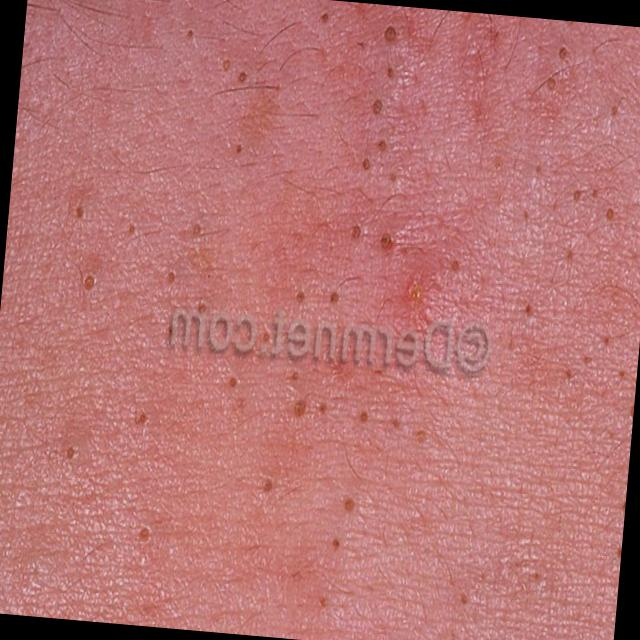blackhead: (378, 228, 395, 254), (291, 396, 308, 422), (80, 269, 96, 294), (136, 522, 152, 547), (340, 496, 357, 516), (492, 152, 505, 178), (370, 95, 384, 118), (382, 23, 398, 43), (164, 264, 177, 288), (570, 182, 584, 204), (318, 8, 332, 30), (413, 428, 428, 448), (375, 134, 388, 156), (544, 72, 558, 92), (556, 43, 569, 64), (350, 221, 362, 243), (361, 154, 374, 172), (235, 68, 248, 86), (293, 287, 306, 305), (192, 220, 203, 241), (328, 288, 340, 307), (262, 477, 274, 496), (562, 365, 574, 384), (564, 246, 574, 268), (137, 409, 149, 427), (63, 444, 75, 462), (316, 400, 328, 418), (603, 205, 615, 222), (590, 184, 600, 204), (386, 62, 396, 82), (74, 204, 85, 222), (580, 350, 591, 368), (504, 334, 515, 352), (616, 364, 628, 380), (400, 242, 410, 261), (608, 101, 618, 119), (534, 160, 544, 178), (234, 140, 244, 158), (450, 257, 460, 275), (522, 300, 532, 318), (601, 332, 612, 348), (390, 414, 401, 430), (358, 408, 369, 424), (260, 328, 271, 344), (522, 207, 532, 224), (222, 56, 232, 73), (387, 170, 398, 185), (227, 374, 238, 389), (197, 300, 208, 314), (233, 395, 244, 409), (291, 570, 302, 584), (330, 536, 340, 551), (318, 593, 328, 608), (166, 320, 173, 340), (290, 368, 300, 382), (460, 590, 468, 607), (128, 220, 136, 236), (186, 25, 194, 40), (628, 401, 634, 420), (616, 544, 622, 562), (563, 20, 577, 27), (533, 568, 540, 582), (622, 498, 626, 514)
